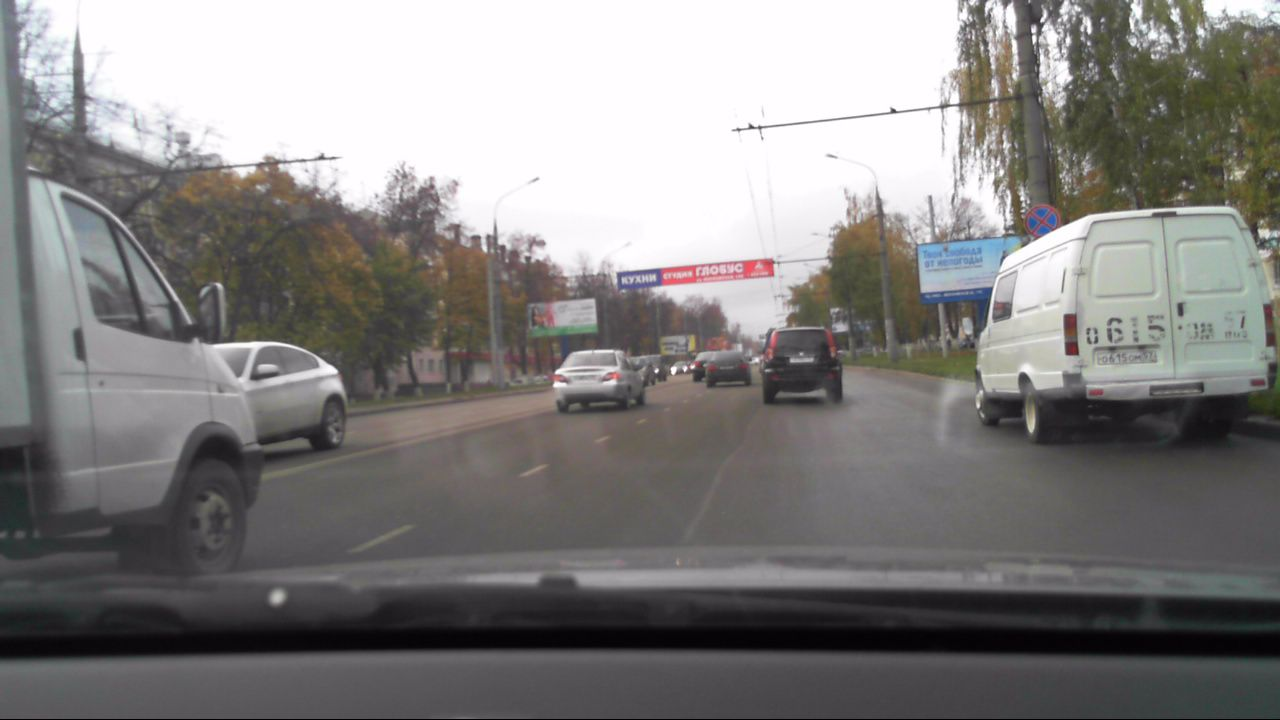No Parking: (1022, 201, 1058, 237)
